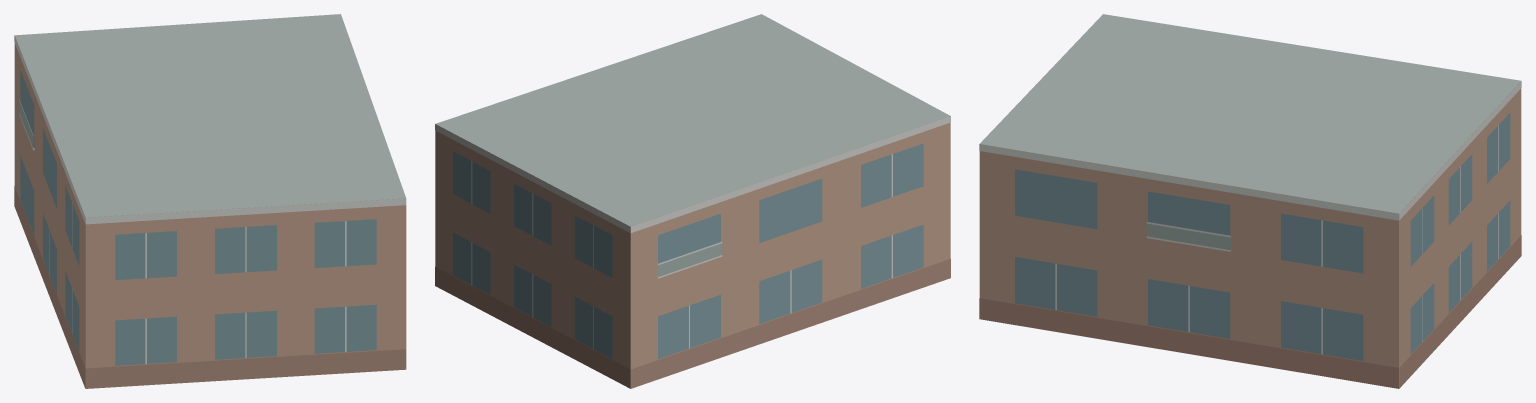
Rendered from survey-upis-32919032.glb.
3 views of the same model, side by side, from view 1: azimuth 30°, elevation 25°; view 2: azimuth 150°, elevation 25°; view 3: azimuth 270°, elevation 25° (orthographic). The views are drawn at different scales.
Visible parts, largest first — view 1: survey-upis-32919032.tmp; view 2: survey-upis-32919032.tmp; view 3: survey-upis-32919032.tmp.
Part boxes in pixels (x1=…): survey-upis-32919032.tmp: x1=14, y1=14, x2=406, y2=388; survey-upis-32919032.tmp: x1=435, y1=14, x2=950, y2=388; survey-upis-32919032.tmp: x1=979, y1=14, x2=1521, y2=388.
Size of the model in its own units: 14.92 by 6.1 by 17.12.
